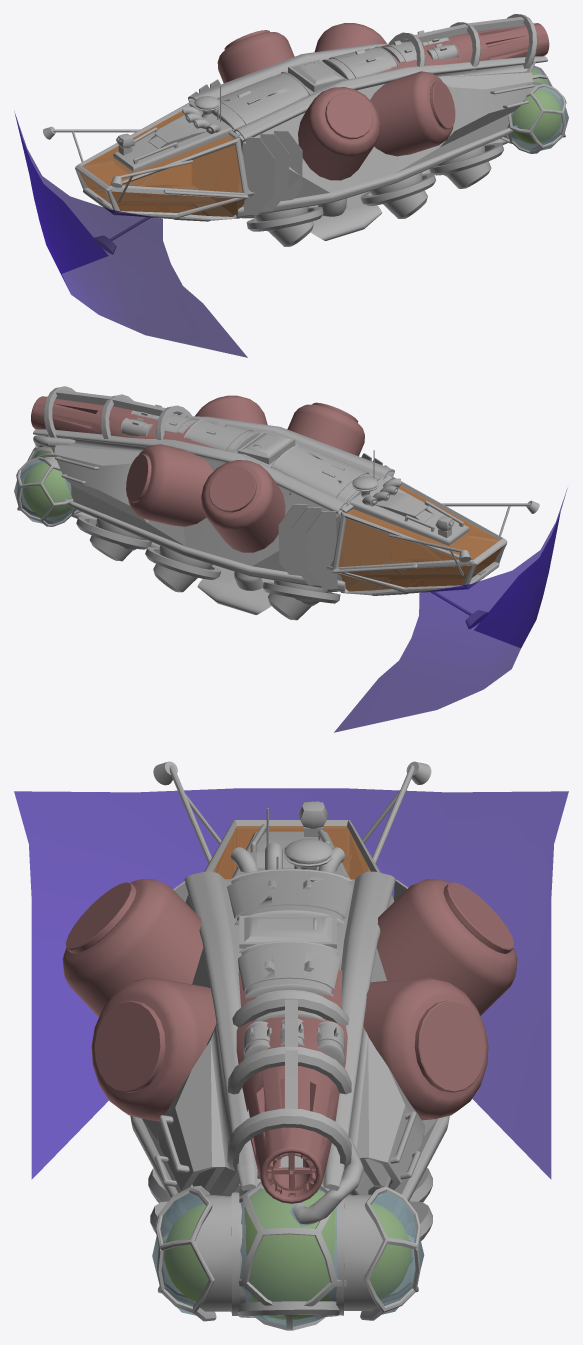
The model's file is ProtoV1_Vehicule.fbx.
The picture shows the model from 3 angles, top to bottom: view 1: azimuth 30°, elevation 25°; view 2: azimuth 150°, elevation 25°; view 3: azimuth 270°, elevation 25°; orthographic projection. The views are drawn at different scales.
Parts seen in each view (by area): view 1: null2_pCube19, pPlane3, pCube39, pCylinder22, pCylinder23, pCube96, pCube99, pPlatonic6, pCylinder98, pCylinder30, pTorus19, pSphere12 (+14 smaller); view 2: null2_pCube19, pPlane3, pCube39, pCylinder22, pCylinder23, pCube96, pPlatonic6, pCube99, pCylinder98, pCylinder30, pTorus19, pSphere11 (+15 smaller); view 3: pPlane3, null2_pCube19, pCylinder23, pCylinder22, pPlatonic6, pPlatonic7, pCylinder98, pSphere10, pCylinder30, pCylinder29, pCube39, pCylinder103 (+18 smaller).
Boxes of the visible parts, left/top/right/bottom form: null2_pCube19: left=97, top=43, right=547, bottom=218; pPlane3: left=14, top=111, right=247, bottom=357; pCube39: left=75, top=101, right=254, bottom=221; pCylinder22: left=217, top=30, right=380, bottom=180; pCylinder23: left=314, top=23, right=455, bottom=156; pCube96: left=190, top=79, right=302, bottom=214; pCube99: left=113, top=109, right=232, bottom=173; pPlatonic6: left=506, top=81, right=568, bottom=153; pCylinder98: left=376, top=23, right=549, bottom=90; pCylinder30: left=211, top=71, right=310, bottom=129; pTorus19: left=308, top=137, right=507, bottom=240; pSphere12: left=512, top=89, right=561, bottom=143; null2_pCube19: left=33, top=416, right=485, bottom=591; pPlane3: left=334, top=488, right=567, bottom=732; pCube39: left=289, top=475, right=507, bottom=595; pCylinder22: left=201, top=402, right=364, bottom=552; pCylinder23: left=126, top=395, right=267, bottom=526; pCube96: left=278, top=453, right=391, bottom=589; pPlatonic6: left=14, top=453, right=75, bottom=526; pCube99: left=350, top=479, right=469, bottom=550; pCylinder98: left=31, top=396, right=213, bottom=460; pCylinder30: left=271, top=444, right=380, bottom=502; pTorus19: left=71, top=512, right=273, bottom=614; pSphere11: left=23, top=462, right=70, bottom=516; pPlane3: left=14, top=788, right=568, bottom=1178; null2_pCube19: left=130, top=871, right=449, bottom=1203; pCylinder23: left=91, top=977, right=488, bottom=1121; pCylinder22: left=62, top=879, right=517, bottom=1016; pPlatonic6: left=152, top=1185, right=424, bottom=1321; pPlatonic7: left=238, top=1181, right=346, bottom=1330; pCylinder98: left=208, top=970, right=347, bottom=1203; pSphere10: left=245, top=1189, right=335, bottom=1319; pCylinder30: left=227, top=868, right=352, bottom=925; pCylinder29: left=238, top=940, right=340, bottom=999; pCube39: left=204, top=820, right=380, bottom=879; pCylinder103: left=227, top=1108, right=351, bottom=1190.
Size of the model in its own units: 1012 by 425 by 530.
